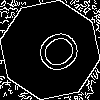O: (25, 25, 86, 84)
